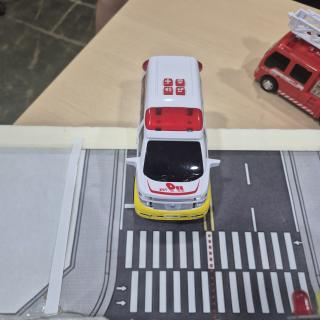Ambulance: (127, 56, 220, 220)
